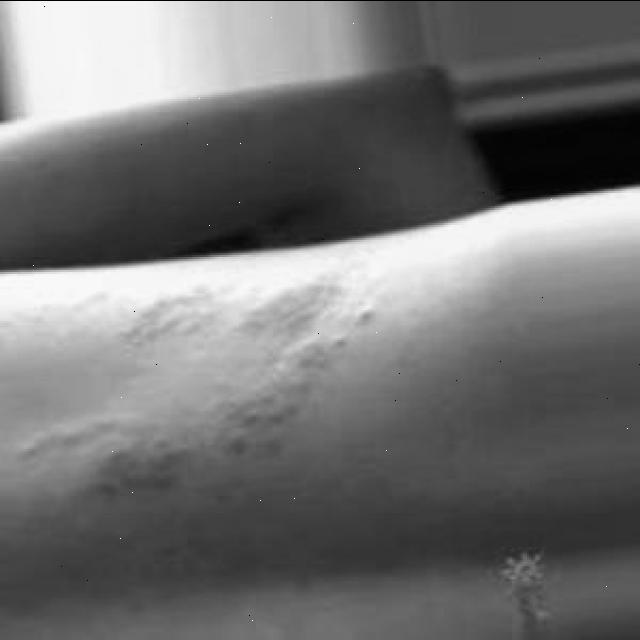Shingles: (28, 342, 335, 492), (101, 278, 340, 335)
